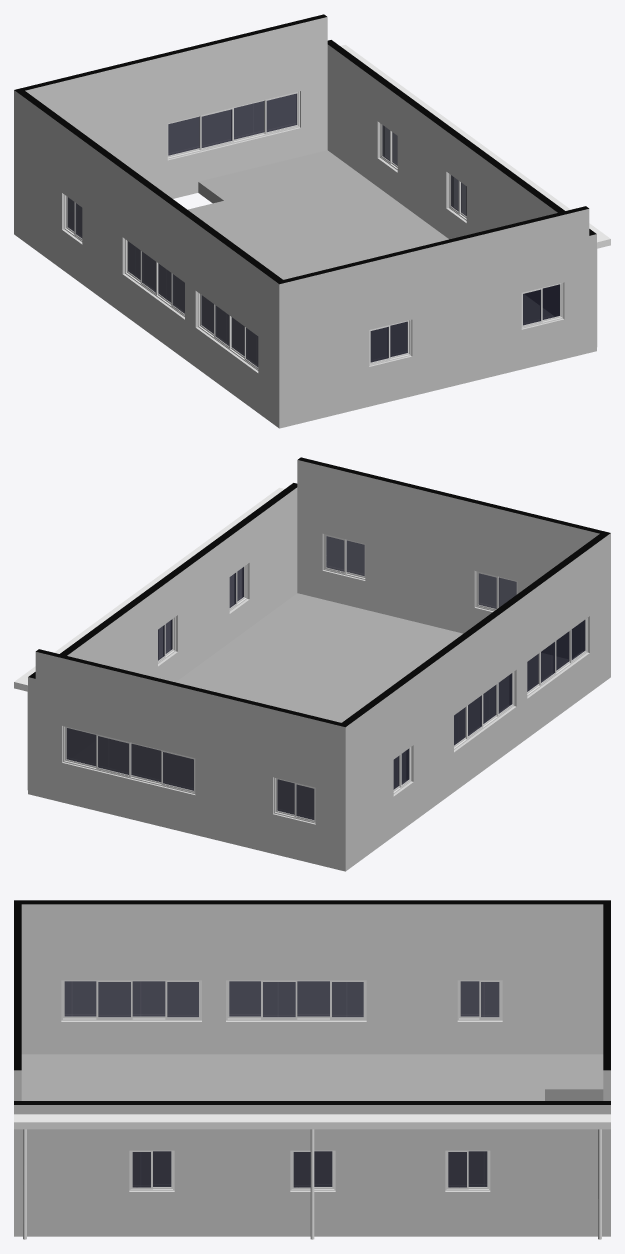
Rendered from soulbrain_T8-office-2F.glb.
3 renders of one model, top to bottom at view 1: azimuth 30°, elevation 25°; view 2: azimuth 150°, elevation 25°; view 3: azimuth 270°, elevation 25°, orthographic. The views are drawn at different scales.
Parts seen in each view (by area): view 1: T8-office-2F, Box1742, Windows_010, Windows_014, Windows_013, Windows_016, Windows_015, Windows_012, Windows_018, Windows_019; view 2: T8-office-2F, Box1742, Windows_010, Windows_014, Windows_013, Windows_016, Windows_011, Windows_015, Windows_017, Windows_012, Windows_018; view 3: T8-office-2F, Box1742, Windows_013, Windows_014, Windows_012, Windows_017, Windows_019, Windows_018, Line1100.
Part boxes in pixels (x1,y1,x2,y2): T8-office-2F: (14,14,610,428); Box1742: (70,150,554,365); Windows_010: (167,91,299,159); Windows_014: (198,293,258,370); Windows_013: (125,239,184,316); Windows_016: (521,283,563,328); Windows_015: (369,320,411,365); Windows_012: (64,195,82,241); Windows_018: (449,173,466,220); Windows_019: (380,123,397,169); T8-office-2F: (14,457,610,871); Box1742: (70,593,568,819); Windows_010: (63,726,195,793); Windows_014: (527,618,587,696); Windows_013: (454,672,514,749); Windows_016: (323,534,365,579); Windows_011: (274,777,315,823); Windows_015: (475,571,517,611); Windows_017: (229,564,247,611); Windows_012: (393,747,411,793); Windows_018: (158,617,175,663); T8-office-2F: (14,900,610,1236); Box1742: (21,1054,603,1186); Windows_013: (226,980,366,1020); Windows_014: (61,980,201,1020); Windows_012: (457,980,502,1020); Windows_017: (129,1150,174,1190); Windows_019: (445,1150,490,1190); Windows_018: (290,1150,335,1190); Line1100: (310,1129,314,1239).
Size of the model in its own units: 9.4 by 3.91 by 13.04.
Materials: 6 (1 with a texture image).
